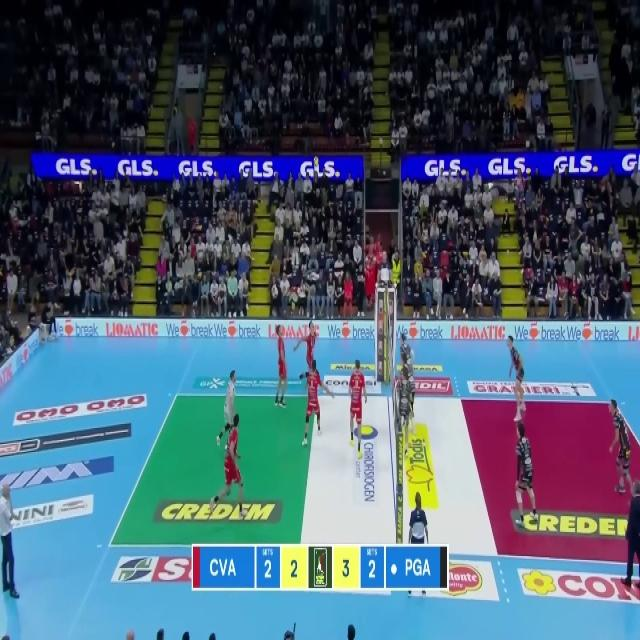volleyball court: (111, 390, 639, 566)
